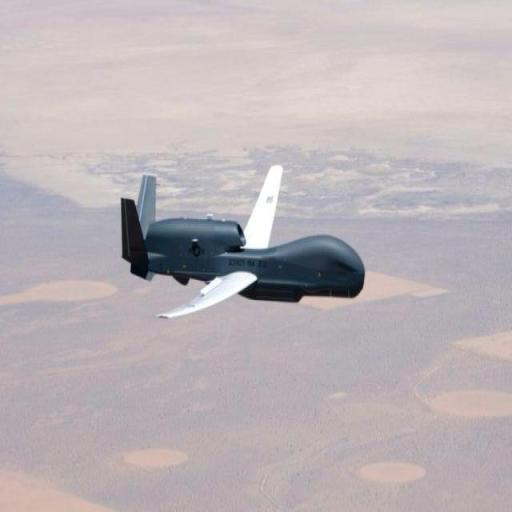uav: (112, 160, 362, 327)
